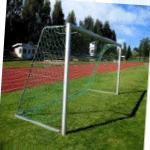goals: (14, 21, 126, 137)
